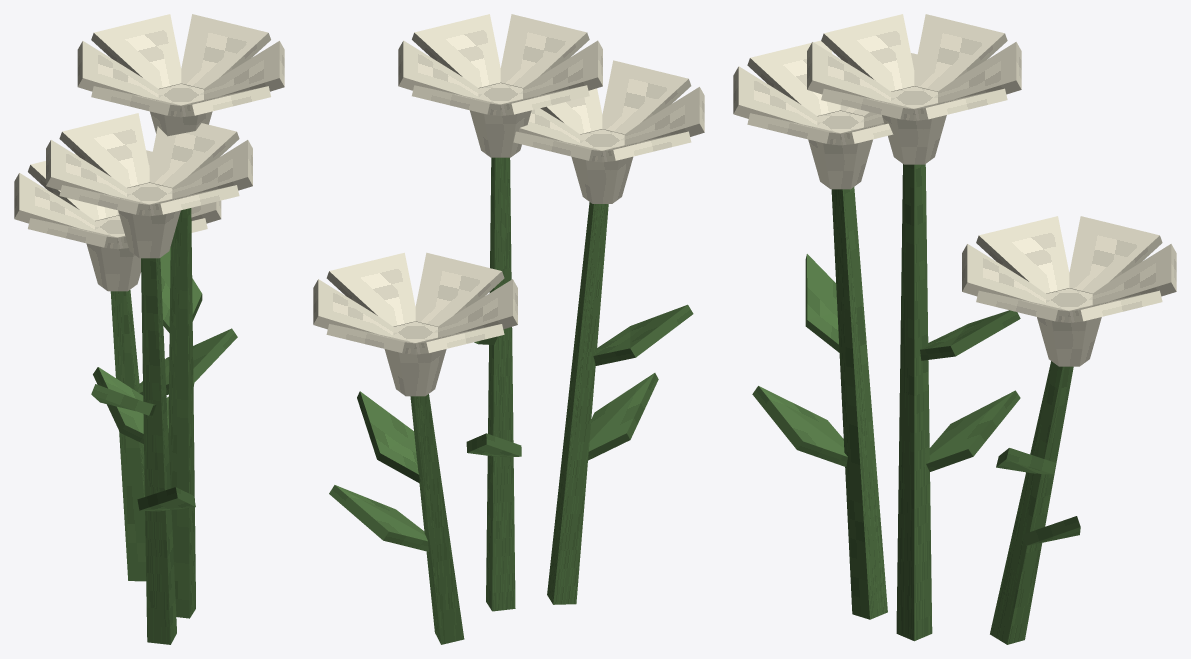
File: f_datura.glb
The picture shows the model from 3 angles, left to right: view 1: azimuth 30°, elevation 25°; view 2: azimuth 150°, elevation 25°; view 3: azimuth 270°, elevation 25°; orthographic projection. The views are drawn at different scales.
Parts seen in each view (by area): view 1: block_flared-petal (×16), block_stem-1, block_stem-0, block_narrow-flower-tube (×3), block_pointed-leaf (×5), block_stem-2; view 2: block_flared-petal (×18), block_pointed-leaf (×5), block_stem-1, block_stem-0, block_narrow-flower-tube (×3), block_stem-2; view 3: block_flared-petal (×16), block_stem-0, block_stem-1, block_pointed-leaf (×6), block_narrow-flower-tube (×3), block_stem-2.
Part boxes in pixels (x1,y1,x2,y2): block_flared-petal (×16): [14, 14, 284, 249]; block_stem-1: [141, 258, 176, 644]; block_stem-0: [168, 208, 195, 618]; block_narrow-flower-tube (×3): [86, 84, 212, 291]; block_pointed-leaf (×5): [91, 247, 237, 511]; block_stem-2: [110, 290, 146, 581]; block_flared-petal (×18): [313, 14, 704, 354]; block_pointed-leaf (×5): [329, 304, 693, 551]; block_stem-1: [547, 202, 608, 604]; block_stem-0: [486, 157, 515, 611]; block_narrow-flower-tube (×3): [384, 83, 633, 396]; block_stem-2: [410, 394, 464, 644]; block_flared-petal (×16): [733, 14, 1176, 322]; block_stem-0: [896, 164, 932, 641]; block_stem-1: [831, 187, 887, 619]; block_pointed-leaf (×6): [752, 254, 1080, 545]; block_narrow-flower-tube (×3): [808, 86, 1101, 366]; block_stem-2: [990, 361, 1073, 644].
Size of the model in its own units: 0.3313 by 0.6459 by 0.4508.
Materials: 1 (1 with a texture image).
